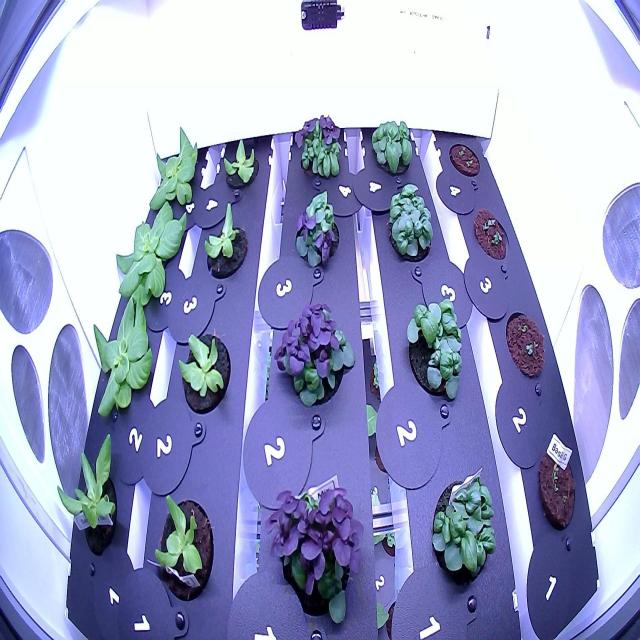germination: (529, 442, 580, 539), (499, 304, 552, 389), (465, 203, 514, 269), (445, 134, 488, 188)
young: (85, 285, 161, 429), (146, 473, 222, 612), (110, 196, 194, 314), (52, 431, 124, 564), (144, 113, 211, 222), (174, 308, 238, 421), (198, 195, 255, 287), (217, 124, 270, 199)
